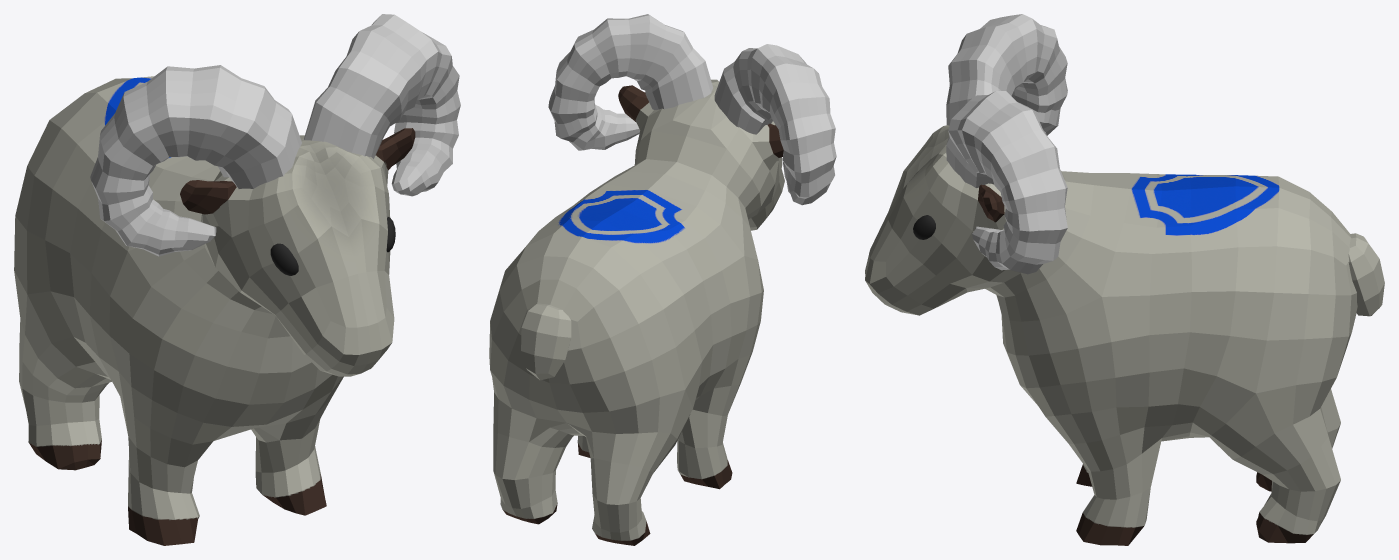
Rendered from NewRam.fbx.
The picture shows the model from 3 angles, left to right: view 1: azimuth 30°, elevation 25°; view 2: azimuth 150°, elevation 25°; view 3: azimuth 270°, elevation 25°; orthographic projection. The views are drawn at different scales.
Visible parts, largest first — view 1: numero_uno, horns, eyes; view 2: numero_uno, horns; view 3: numero_uno, horns.
Boxes of the visible parts, <box> form: numero_uno: <box>14,76,415,545</box>; horns: <box>90,14,460,256</box>; eyes: <box>270,217,395,275</box>; numero_uno: <box>489,79,784,545</box>; horns: <box>548,14,836,205</box>; numero_uno: <box>865,125,1384,545</box>; horns: <box>946,14,1067,274</box>.
Bounding box in the file's own units: 0.7445 × 1.01 × 1.06.
